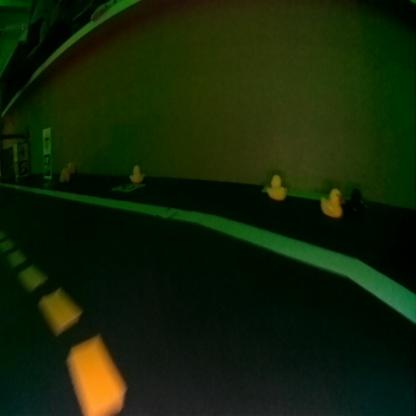Duckie: (320, 188, 341, 218), (266, 174, 286, 200), (129, 165, 144, 181), (60, 168, 70, 180), (68, 163, 73, 172)
Intersection sign: (43, 128, 50, 152), (18, 144, 26, 158)
QR code: (113, 182, 141, 192), (42, 154, 51, 174), (18, 160, 28, 174)
